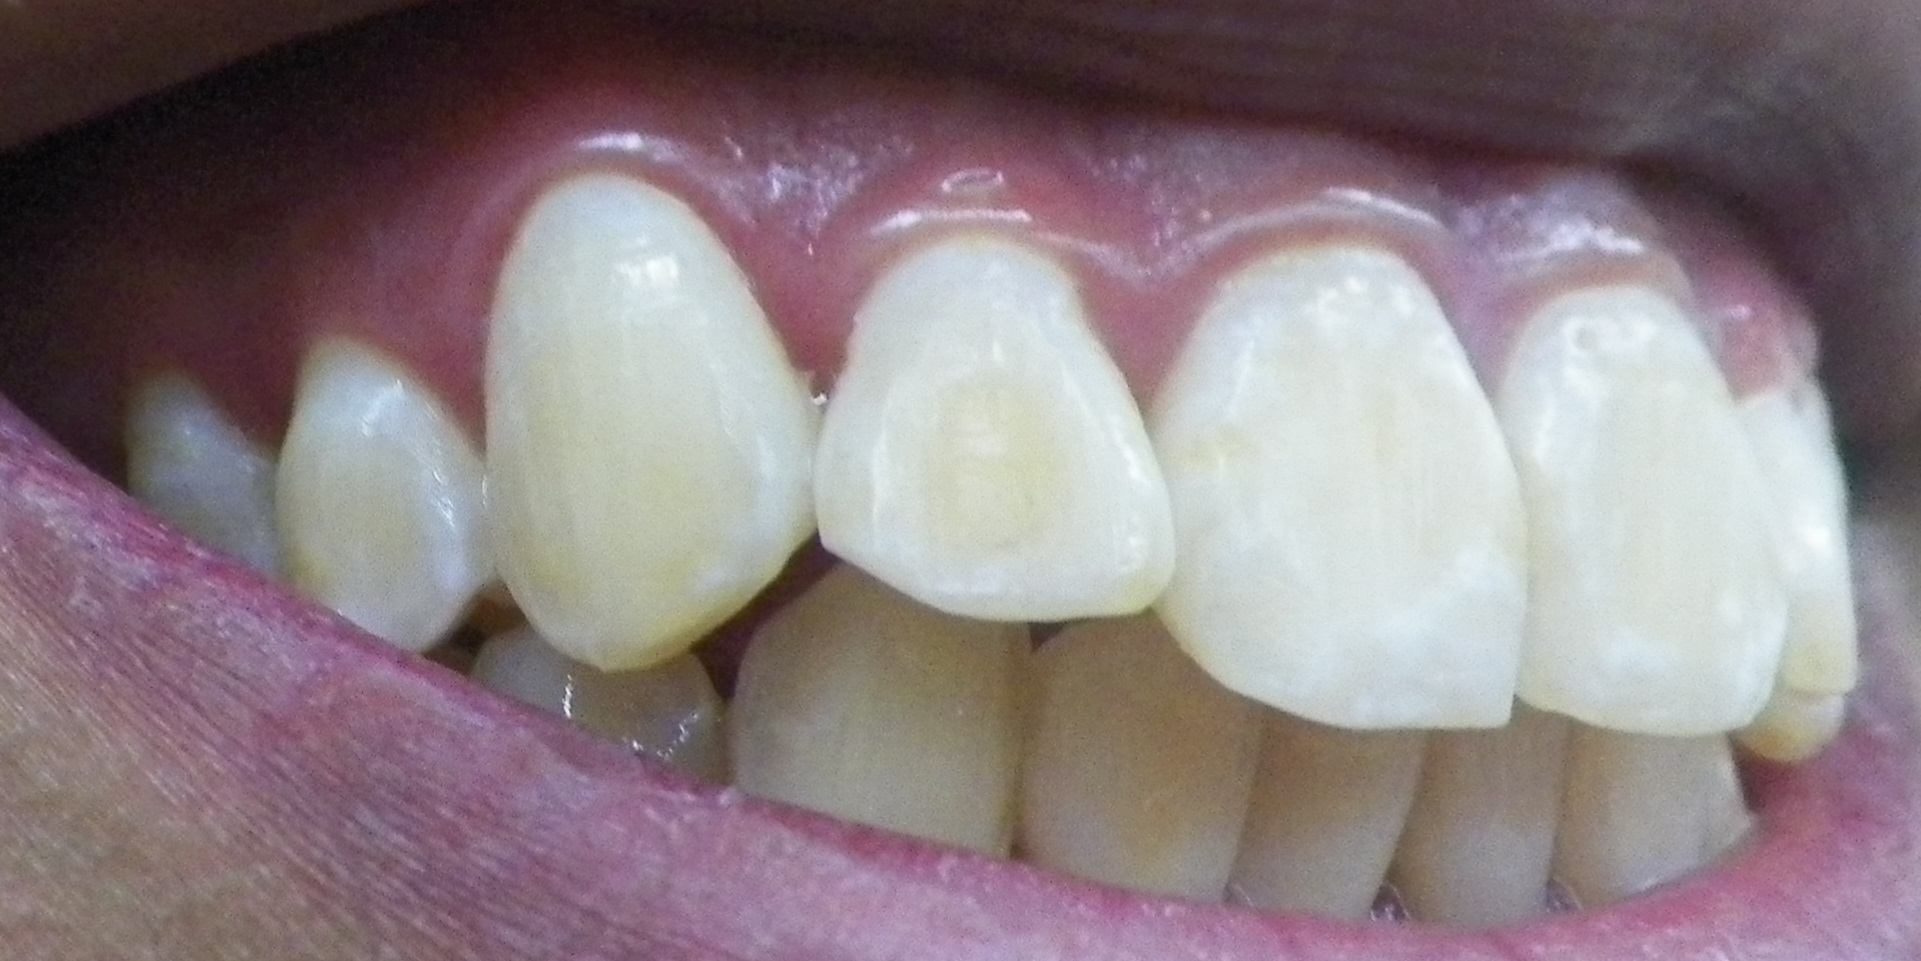boca: (28, 218, 1871, 908)
